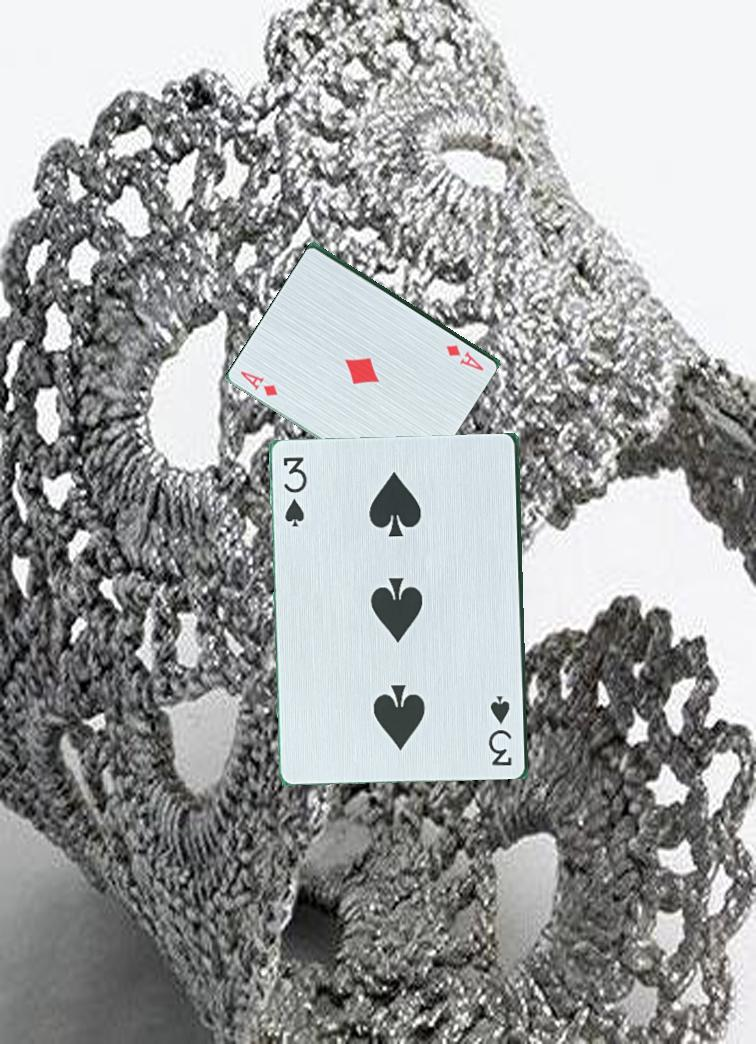3s: (278, 452, 307, 530), (487, 686, 514, 769)
ad: (441, 333, 490, 376), (236, 367, 281, 399)
